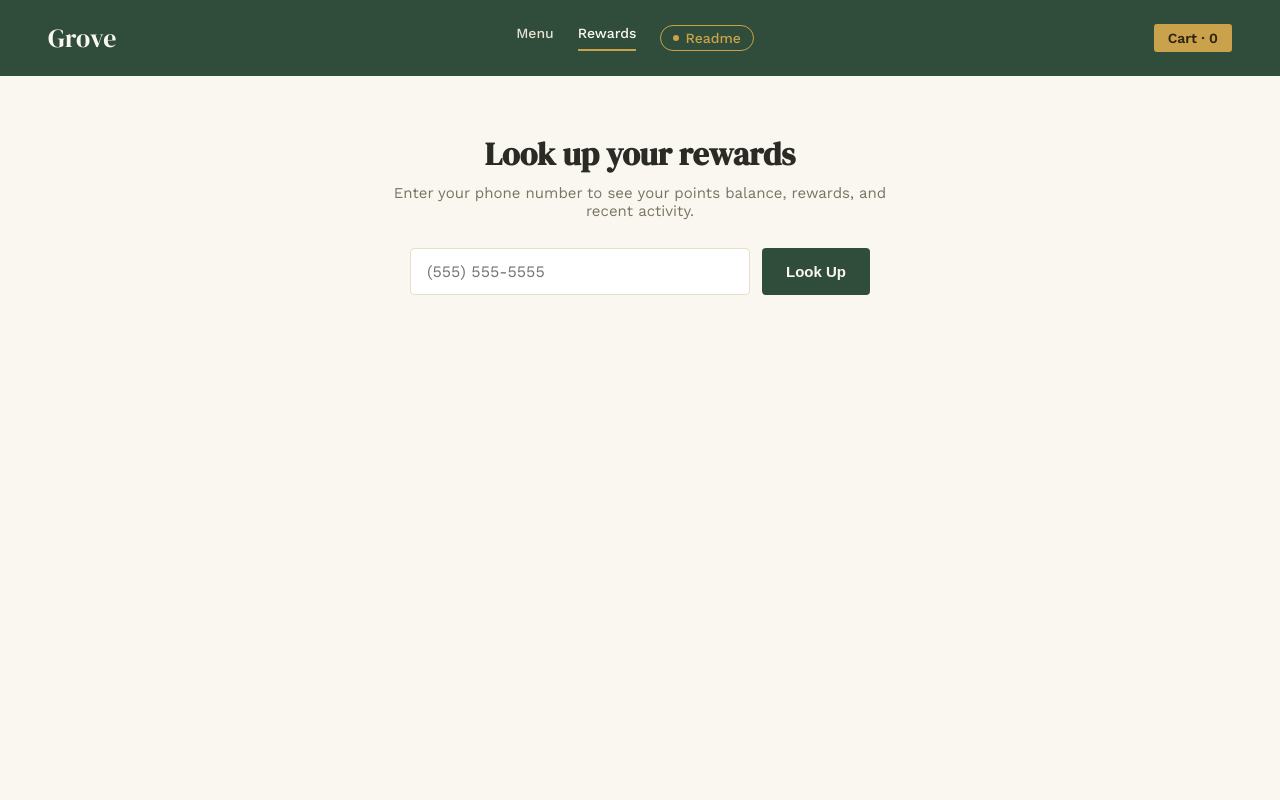
Test: LoyaltyView › shows balance, lifetime orders, rewards, and activity for a known phone
Type "+15551234567" into the field with placeholder "(555) 555-5555".
click(580, 272); type("+15551234567")  # box [410, 248, 750, 295]
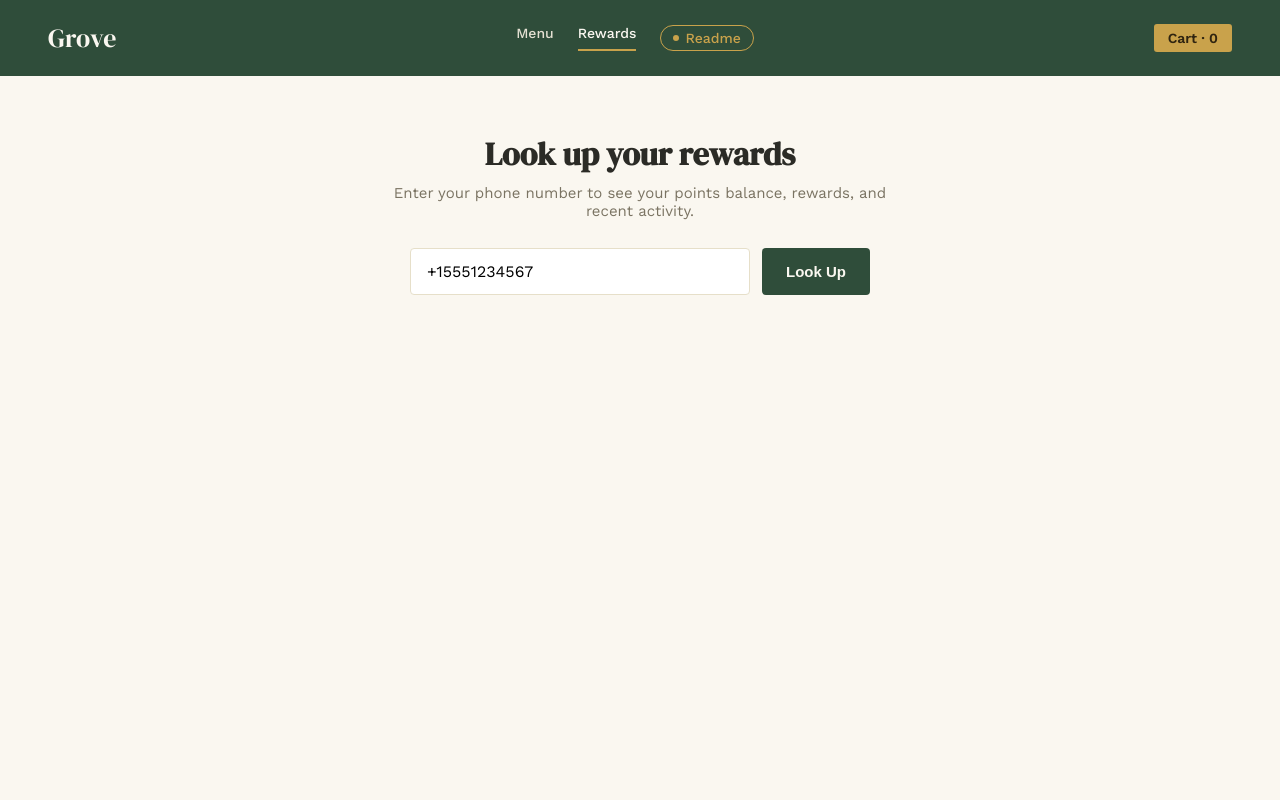
Click the button with class "lookup-button".
click(816, 272)  # box [762, 248, 870, 295]
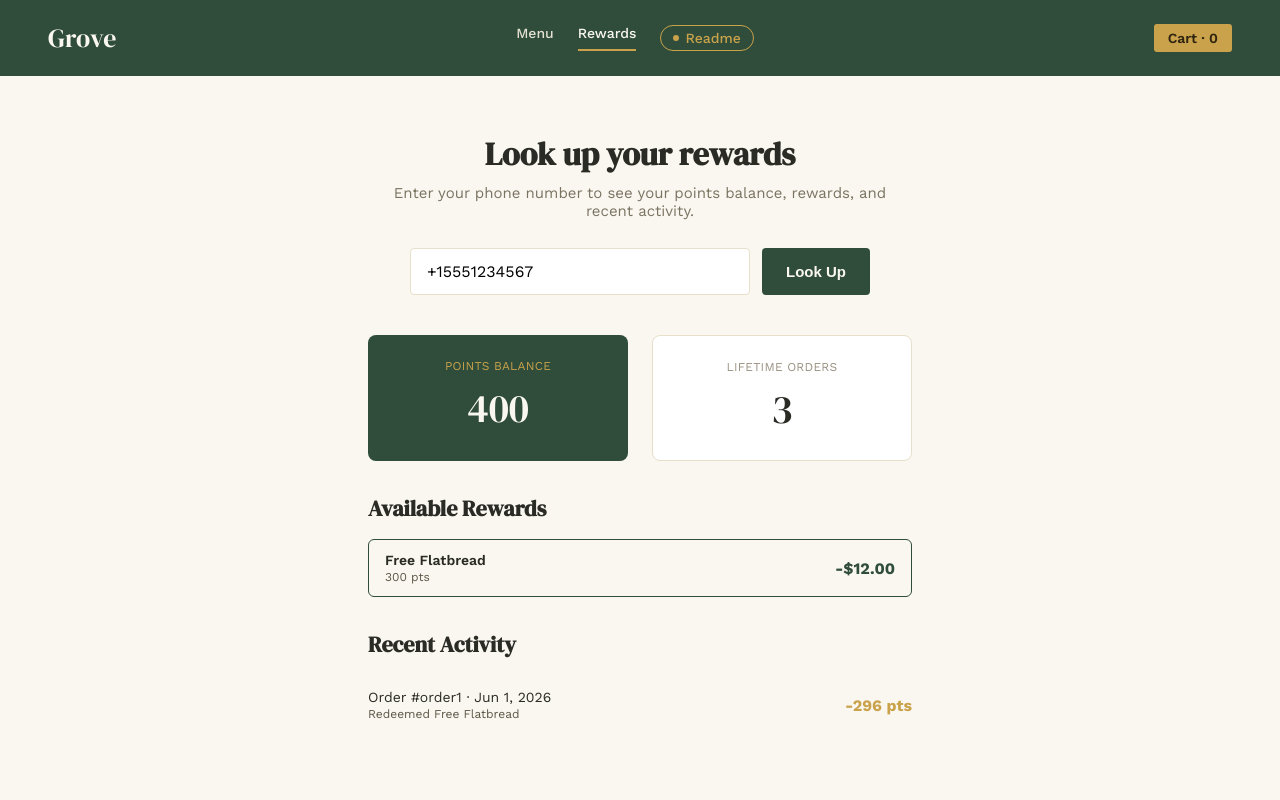
Expected: the text "400" is shown, [467, 381, 529, 435]
Expected: the text "3" is shown, [771, 382, 793, 436]
Expected: the text "Free Flatbread" is shown, [385, 552, 486, 568]
